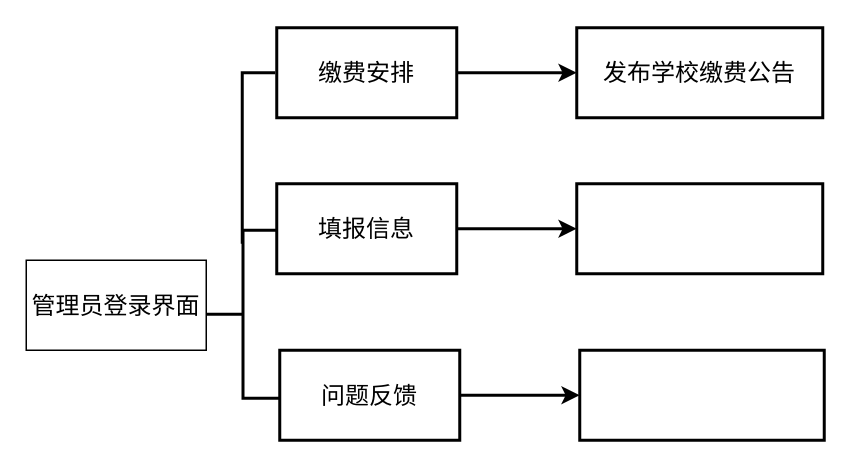
Some shapes in this 852 by 467 pixel diagram are drawn without their labels. The shapes that lost their labels are listed below. From the top down, each one's centre as x and y in pixels, then its label:
the point at 699,228: 查看学生信息填报
the point at 701,394: 处理学生的问题反馈
